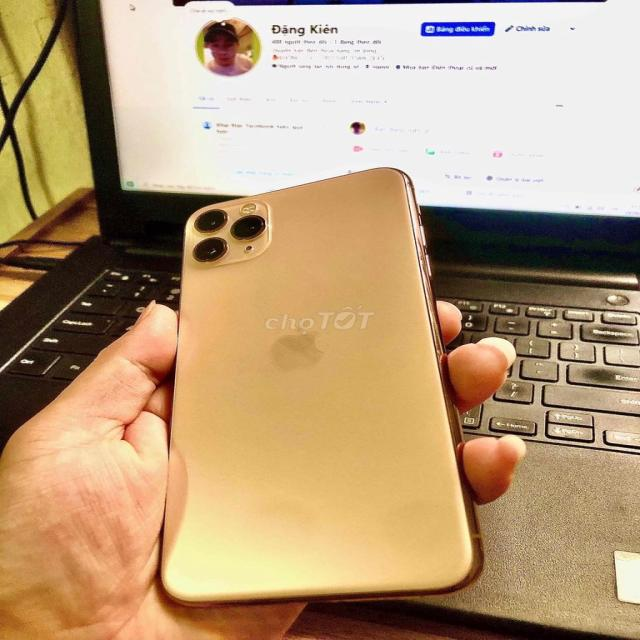gen_11: (152, 168, 482, 612)
